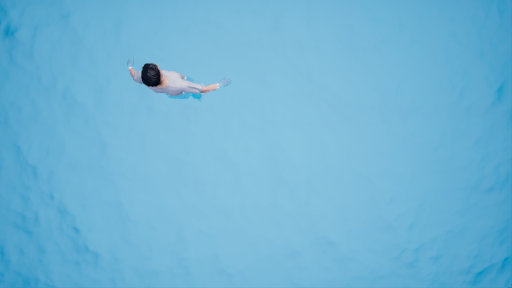person: (126, 57, 231, 110)
